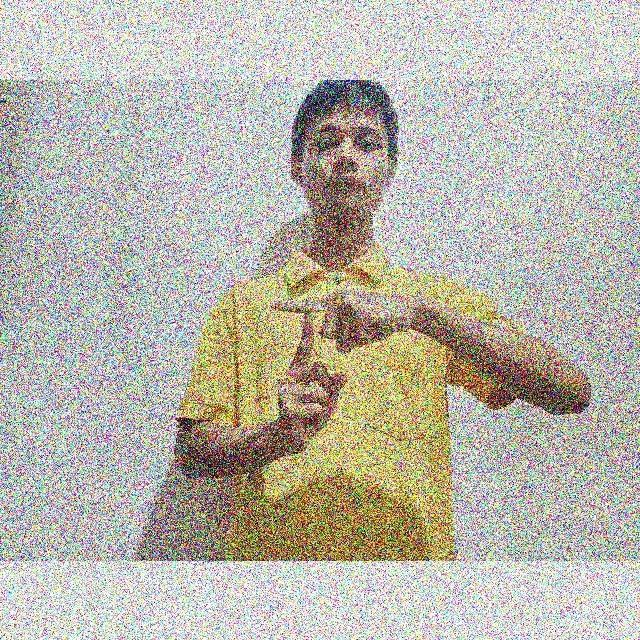T: (268, 278, 350, 416)
